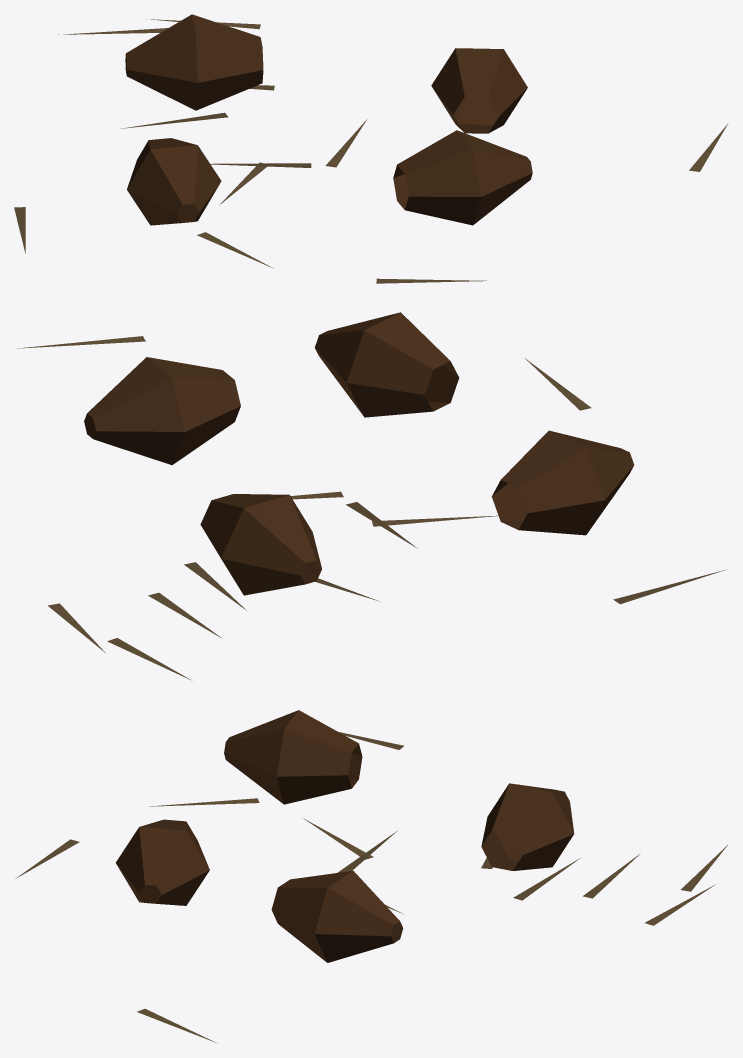
File: pine_cone_scatter.glb
3 renders of one model, top to bottom at view 1: azimuth 30°, elevation 25°; view 2: azimuth 150°, elevation 25°; view 3: azimuth 270°, elevation 25°, orthographic. The views are drawn at different scales.
Visible parts, largest first — view 1: pine_cone_scatter; view 2: pine_cone_scatter; view 3: pine_cone_scatter.
Part boxes in pixels (left/top/right/bottom): pine_cone_scatter: left=14, top=14, right=728, bottom=283; pine_cone_scatter: left=17, top=312, right=724, bottom=680; pine_cone_scatter: left=15, top=710, right=727, bottom=1043.
Bounding box in the file's own units: 0.3947 × 0.0437 × 0.3724.
